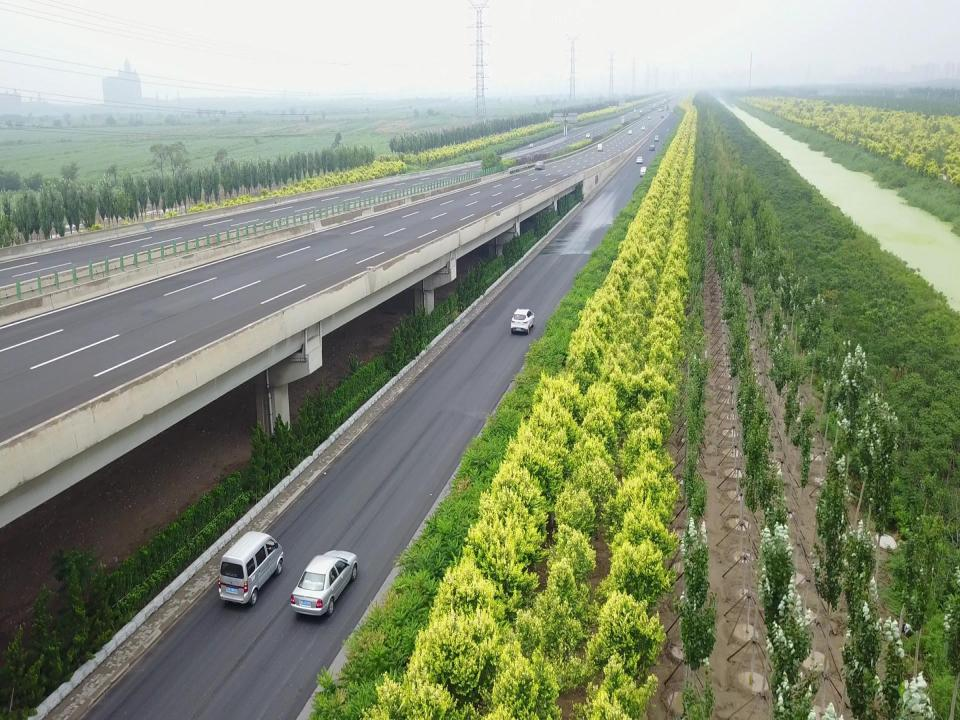car: (290, 549, 358, 617), (509, 307, 535, 335), (535, 160, 545, 170), (640, 166, 648, 177), (636, 156, 644, 163), (528, 143, 535, 149), (649, 144, 655, 151), (586, 133, 590, 138), (628, 130, 632, 135)
van: (216, 529, 284, 607), (597, 144, 603, 152), (654, 136, 658, 142)
